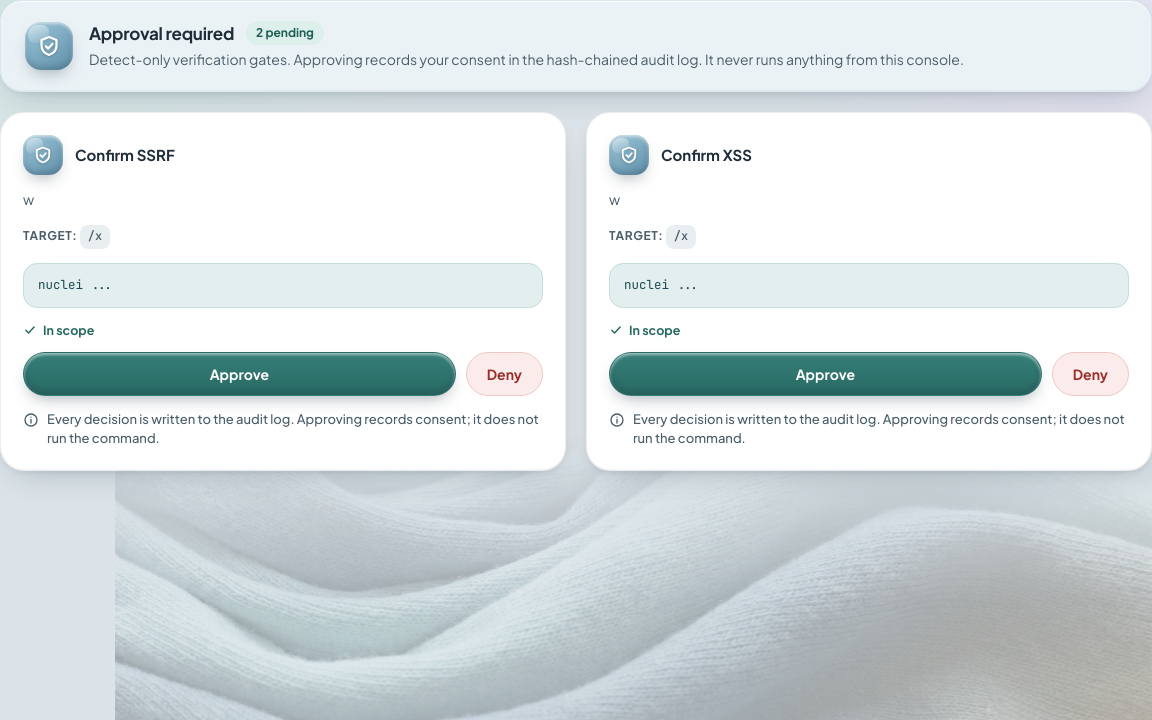
Scenario: an error toast stays visible after a later success toast
The image size is (1152, 720).
Expected: the heading "Confirm SSRF" is shown, [75,145,175,164]
Click the button "Approve" below "Confirm SSRF" at (239, 374), box [23,352,456,396]
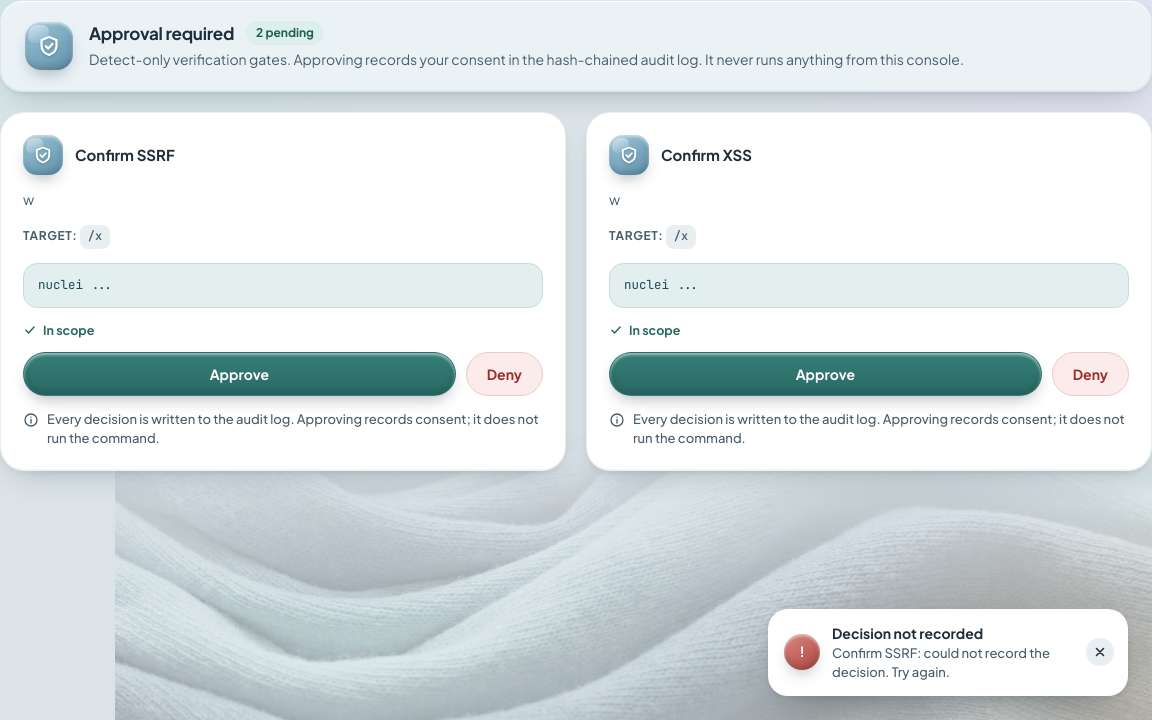
Result: the message shows "not recorded" at [832,624,983,642]
Click the button "Approve" below "Confirm XSS" at (825, 374), box [609,352,1042,396]
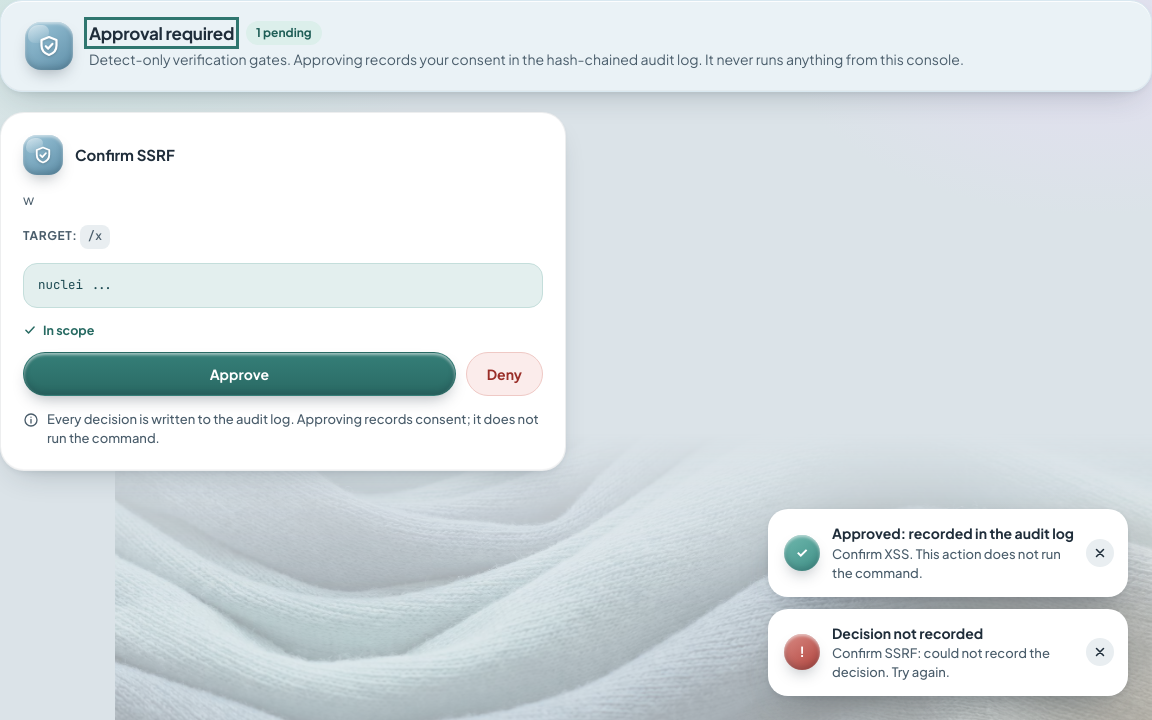
Result: the message that starts with "Decision not recorded" is shown at [832,624,983,642]
Result: the message that starts with "Approved: recorded in the audit log" is shown at [832,524,1074,542]
